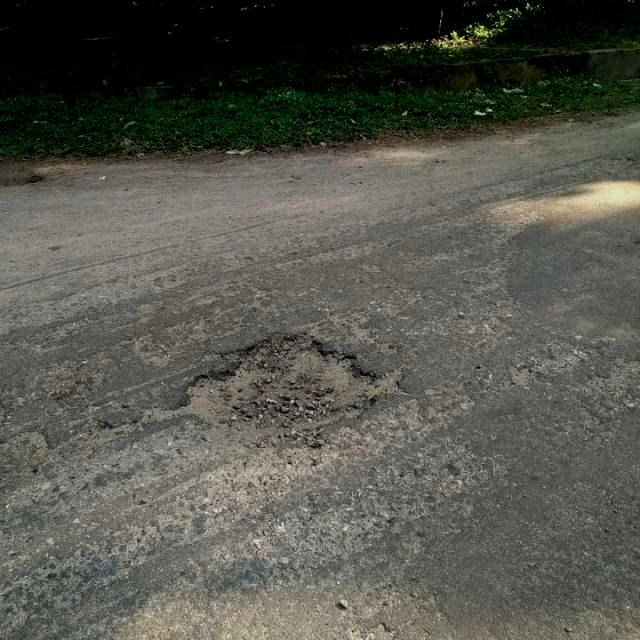Pothole: (167, 329, 411, 447)
